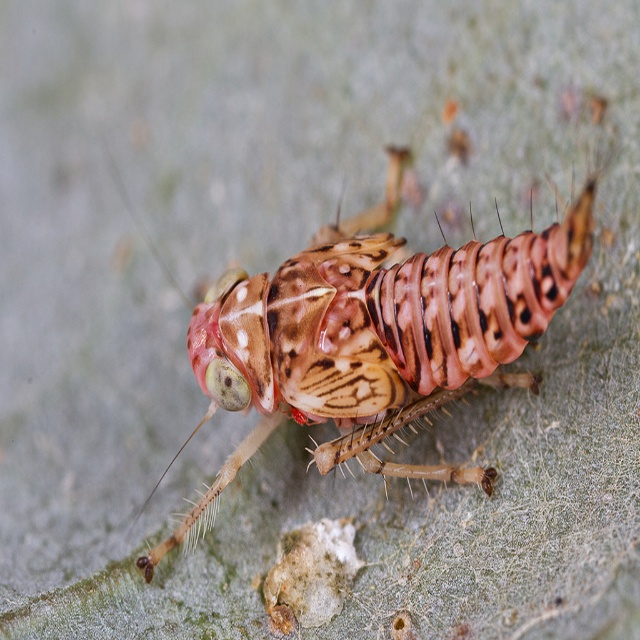Centipede: (144, 119, 624, 570)
